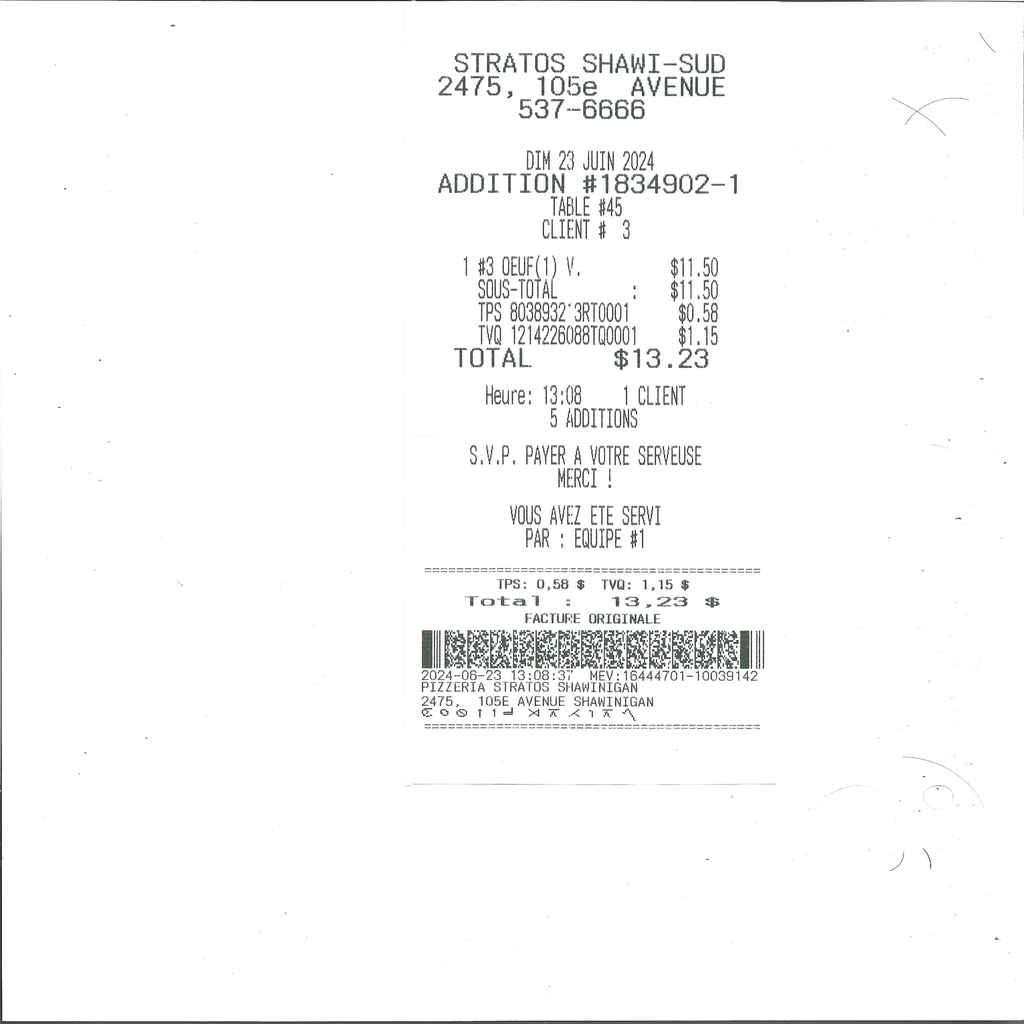recipt: (399, 25, 785, 779)
